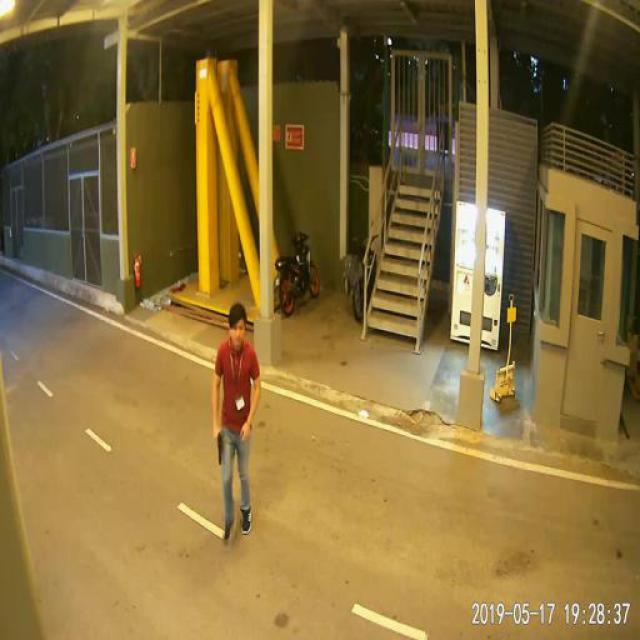weapon: (216, 432, 223, 466)
